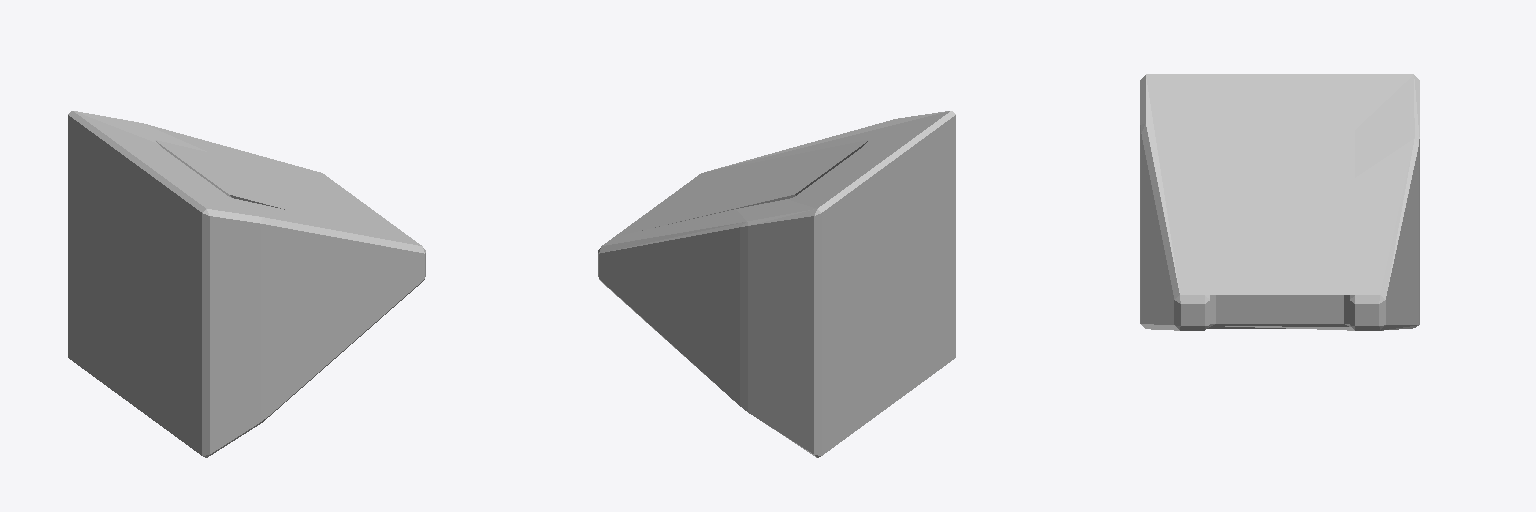
The model's file is peg3D.obj.
3 renders of one model, left to right at view 1: azimuth 30°, elevation 25°; view 2: azimuth 150°, elevation 25°; view 3: azimuth 270°, elevation 25°, orthographic.
Parts seen in each view (by area): view 1: Peg_peg; view 2: Peg_peg; view 3: Peg_peg.
Part boxes in pixels (bbox=[...]): Peg_peg: bbox=[68, 111, 425, 457]; Peg_peg: bbox=[598, 111, 955, 457]; Peg_peg: bbox=[1140, 74, 1419, 330].
Bounding box in the file's own units: 0.4 × 0.3946 × 0.4.